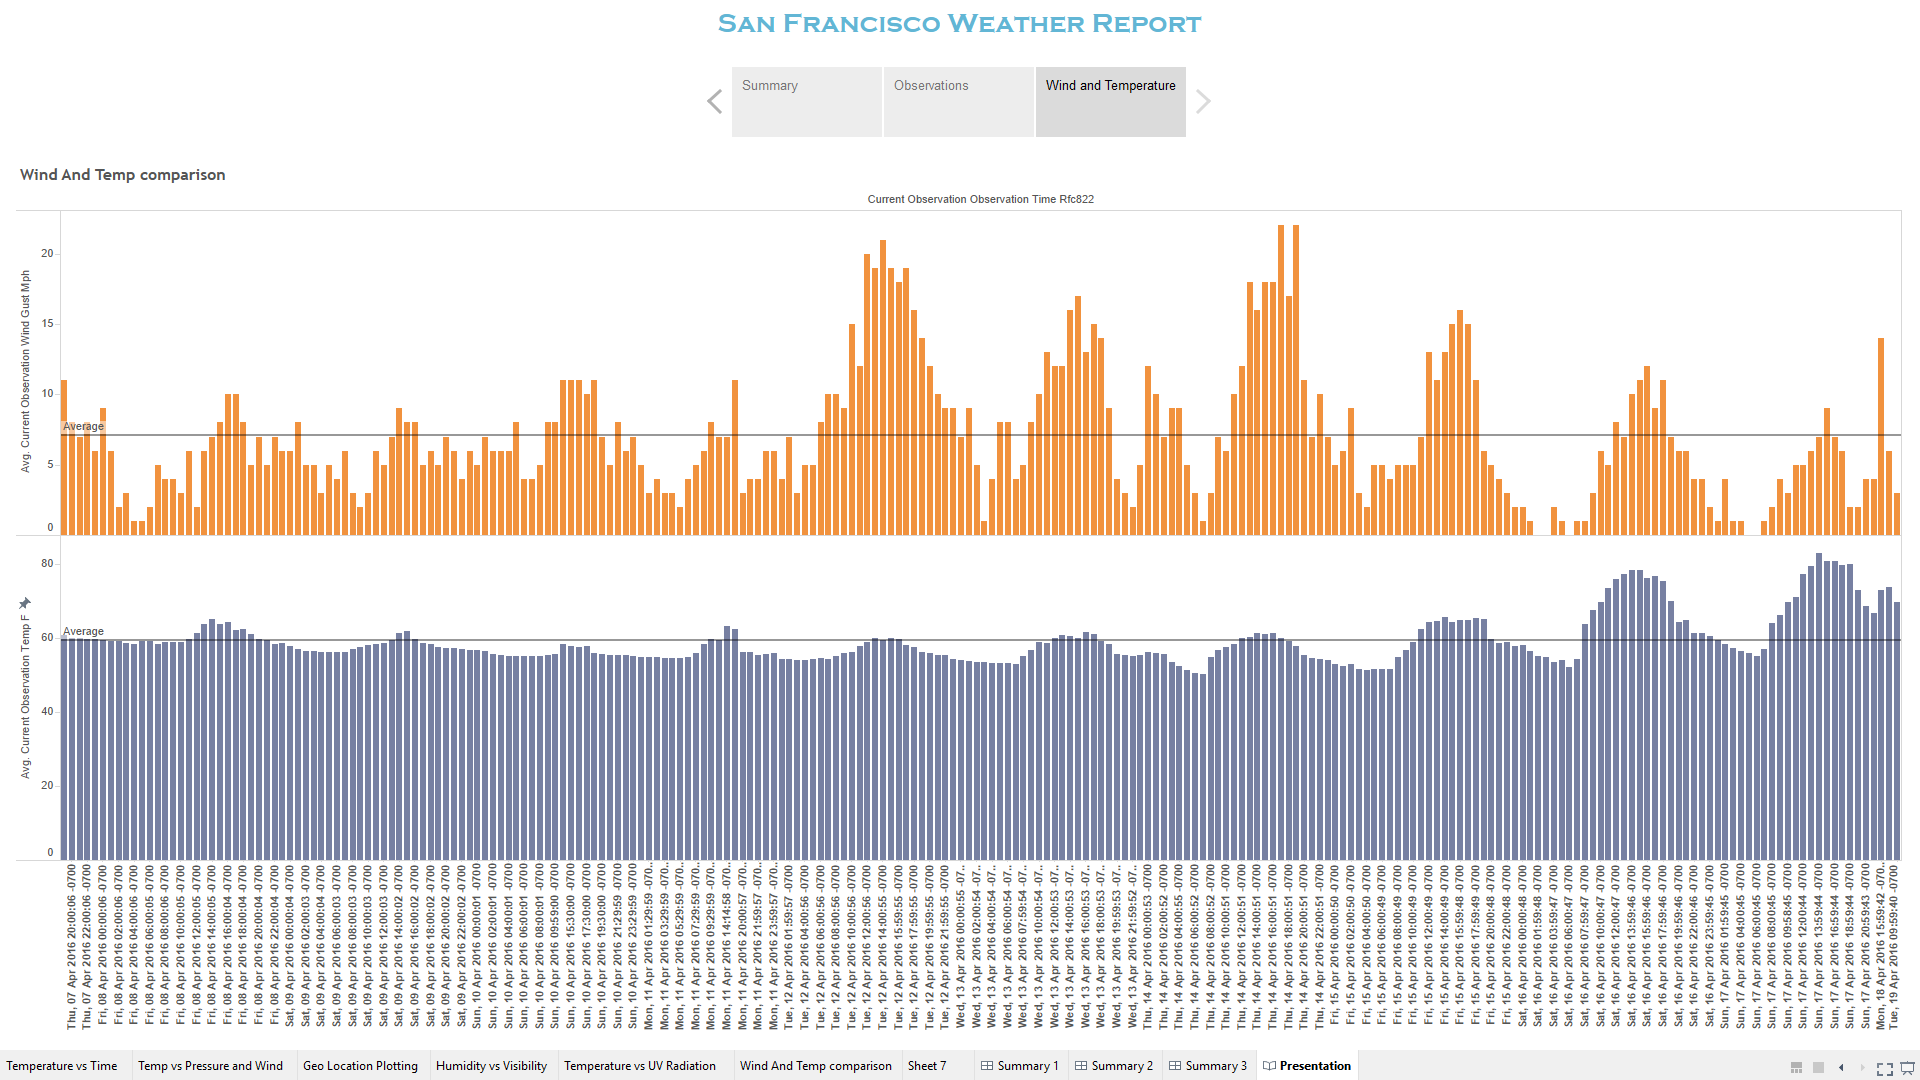

Layout of this report page (visuals, bound fields, positions):
{"tool":"tableau","page":{"name":"Summary 3","canvas":[1000,1000],"units":"permille","ordinal":2},"visuals":[{"type":"worksheet","title":"Wind And Temp comparison","mark":"Bar","rows":["current_observation_wind_gust_mph","current_observation_temp_f"],"cols":["current_observation_observation_time_rfc822"],"box":[0,0,1000,1000]}]}

Visuals, with their boxes on the dashboard's canvas, which has no fixed pixel size, in thousandths of its width and height (x1, y1, x2, y2). These are canvas units, not pixel positions in the 1920x1080 screenshot, which may show the page scaled, cropped or inside an application window:
"Wind And Temp comparison" worksheet (Bar marks): (x1=0, y1=0, x2=1000, y2=1000)
